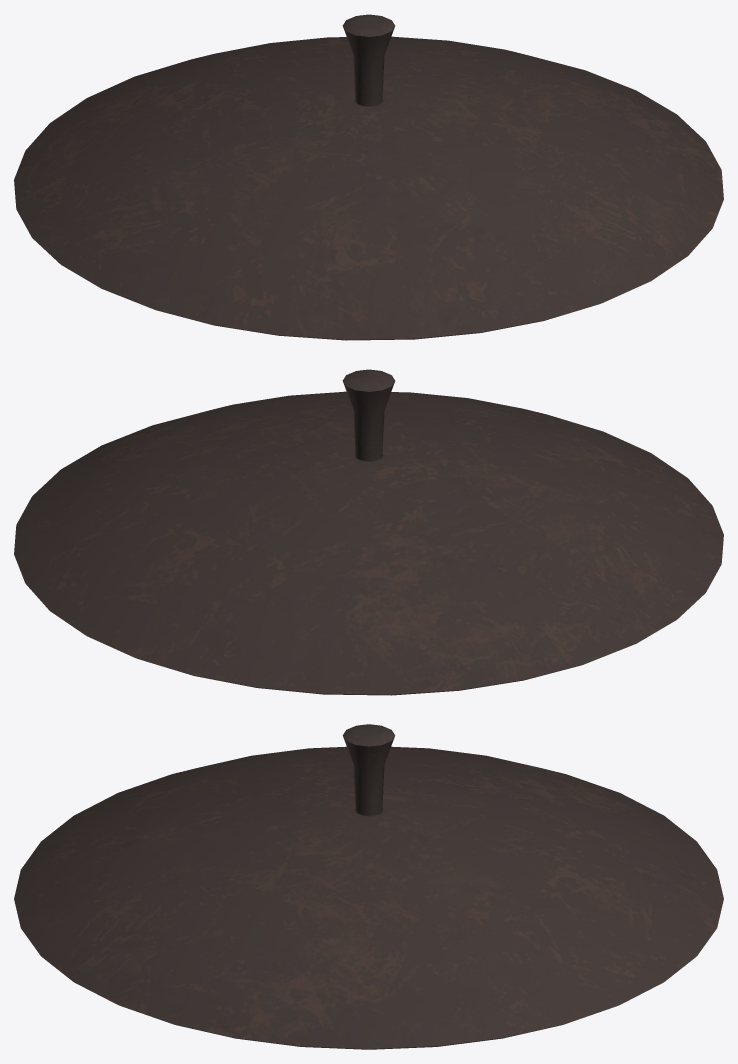
3 views of the same model, one above another, from view 1: azimuth 30°, elevation 25°; view 2: azimuth 150°, elevation 25°; view 3: azimuth 270°, elevation 25° (orthographic).
Visible parts, largest first — view 1: SM_Cauldron_Lid01a; view 2: SM_Cauldron_Lid01a; view 3: SM_Cauldron_Lid01a.
Boxes of the visible parts, left/top/right/bottom form: SM_Cauldron_Lid01a: left=14, top=14, right=723, bottom=340; SM_Cauldron_Lid01a: left=14, top=369, right=723, bottom=695; SM_Cauldron_Lid01a: left=14, top=724, right=723, bottom=1049.
Bounding box in the file's own units: 0.6334 × 0.167 × 0.6334.
Materials: 1 (1 with a texture image).
